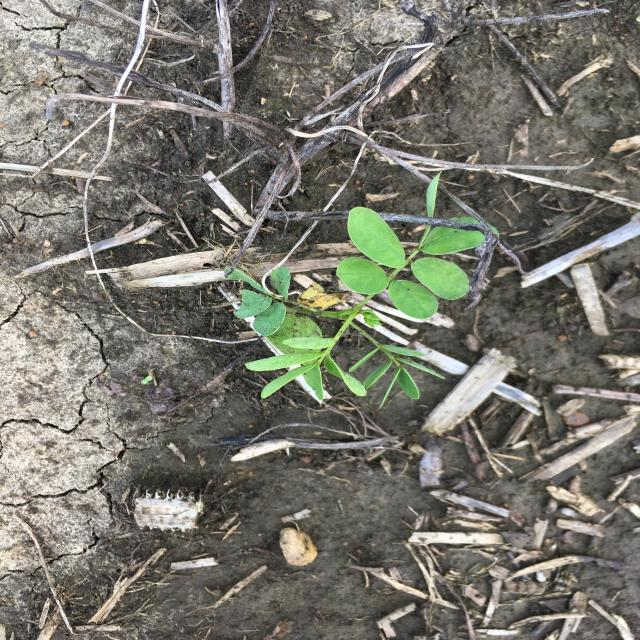Sicklepod: (222, 167, 501, 413)
